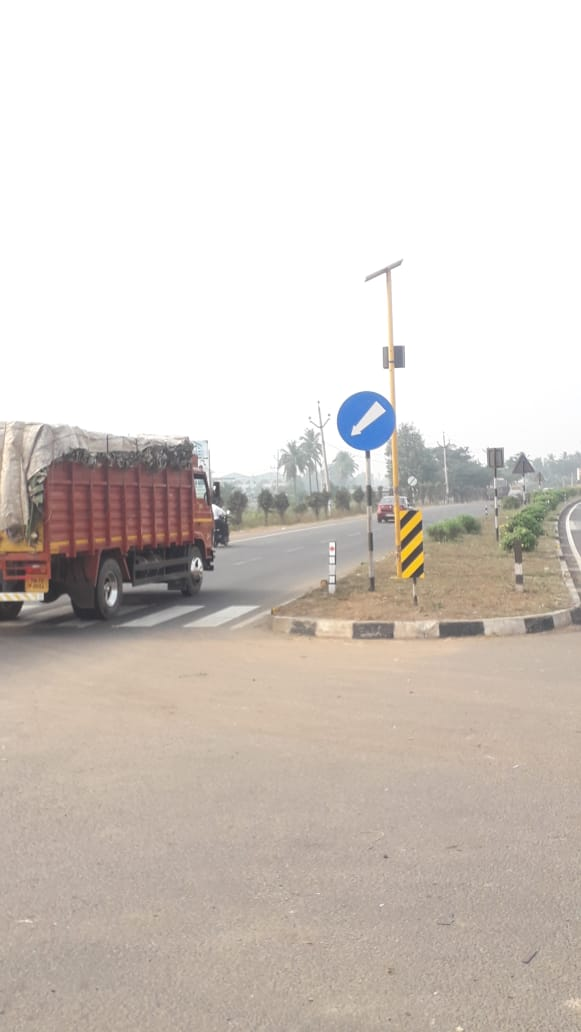go left: (337, 390, 405, 474)
